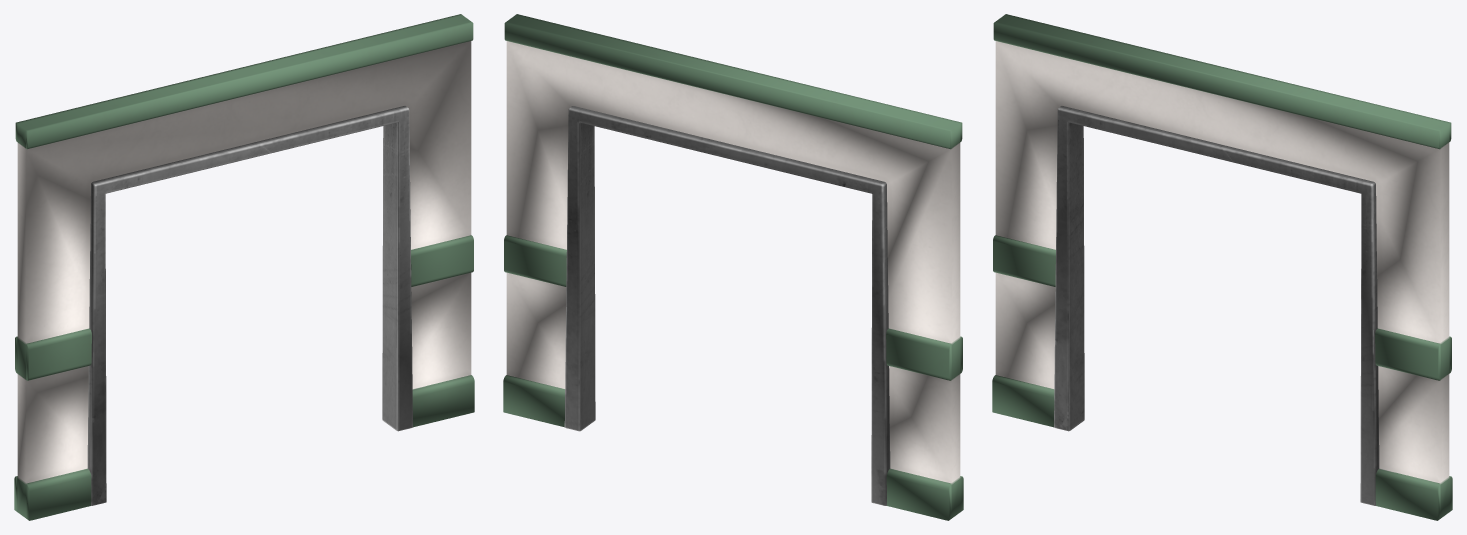
File: Tile_Wall_Doorway_2.glb
3 views of the same model, side by side, from view 1: azimuth 30°, elevation 25°; view 2: azimuth 150°, elevation 25°; view 3: azimuth 330°, elevation 25° (orthographic).
Parts seen in each view (by area): view 1: Tile_Wall_Doorway_2; view 2: Tile_Wall_Doorway_2; view 3: Tile_Wall_Doorway_2.
Boxes of the visible parts, x1=… form: Tile_Wall_Doorway_2: x1=14, y1=14, x2=474, y2=520; Tile_Wall_Doorway_2: x1=503, y1=14, x2=963, y2=520; Tile_Wall_Doorway_2: x1=992, y1=14, x2=1452, y2=520.
Bounding box in the file's own units: 3 × 2.5 × 0.1868.
Materials: 1 (1 with a texture image).
